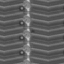dust: (31, 30, 34, 32)
